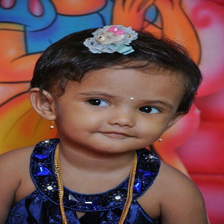no_mask: (66, 62, 174, 154)
